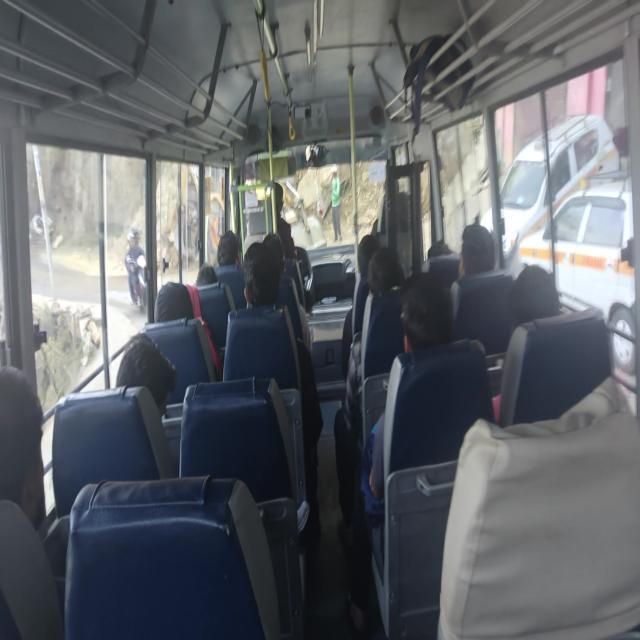person: (2, 358, 57, 525), (403, 262, 452, 368), (117, 332, 175, 411), (512, 261, 560, 338), (242, 236, 280, 321), (153, 274, 194, 336), (461, 214, 495, 281), (368, 250, 406, 308), (210, 221, 242, 265), (377, 171, 407, 212), (264, 171, 289, 218), (192, 244, 215, 294), (262, 228, 286, 270), (357, 232, 381, 274), (427, 227, 451, 265)
